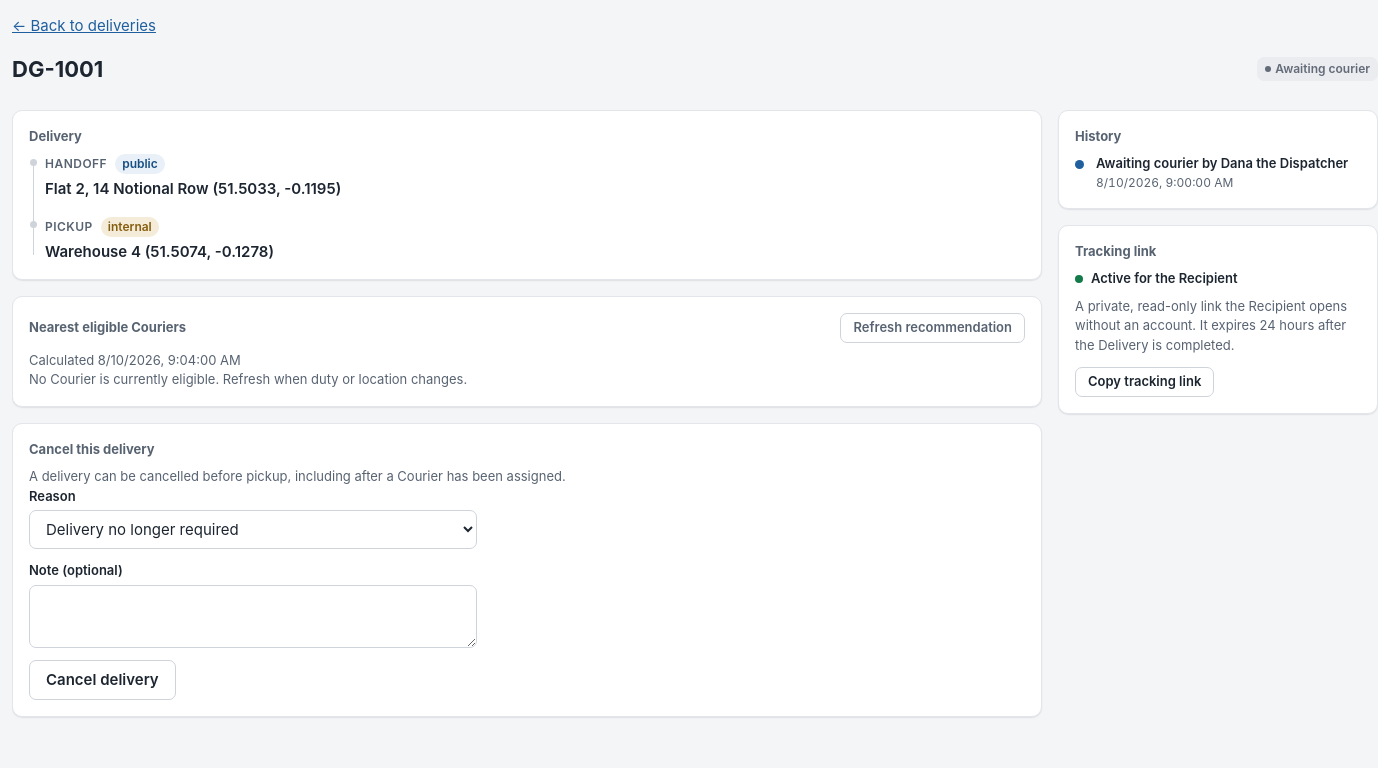
DeliveryDetailPage › cancels with the loaded version and a reason
Expected: the button "Cancel delivery" is shown, [29, 660, 176, 700]
Select "Item unavailable at pickup" in the dropdown labelled "Reason" at (253, 530), box [29, 510, 477, 549]
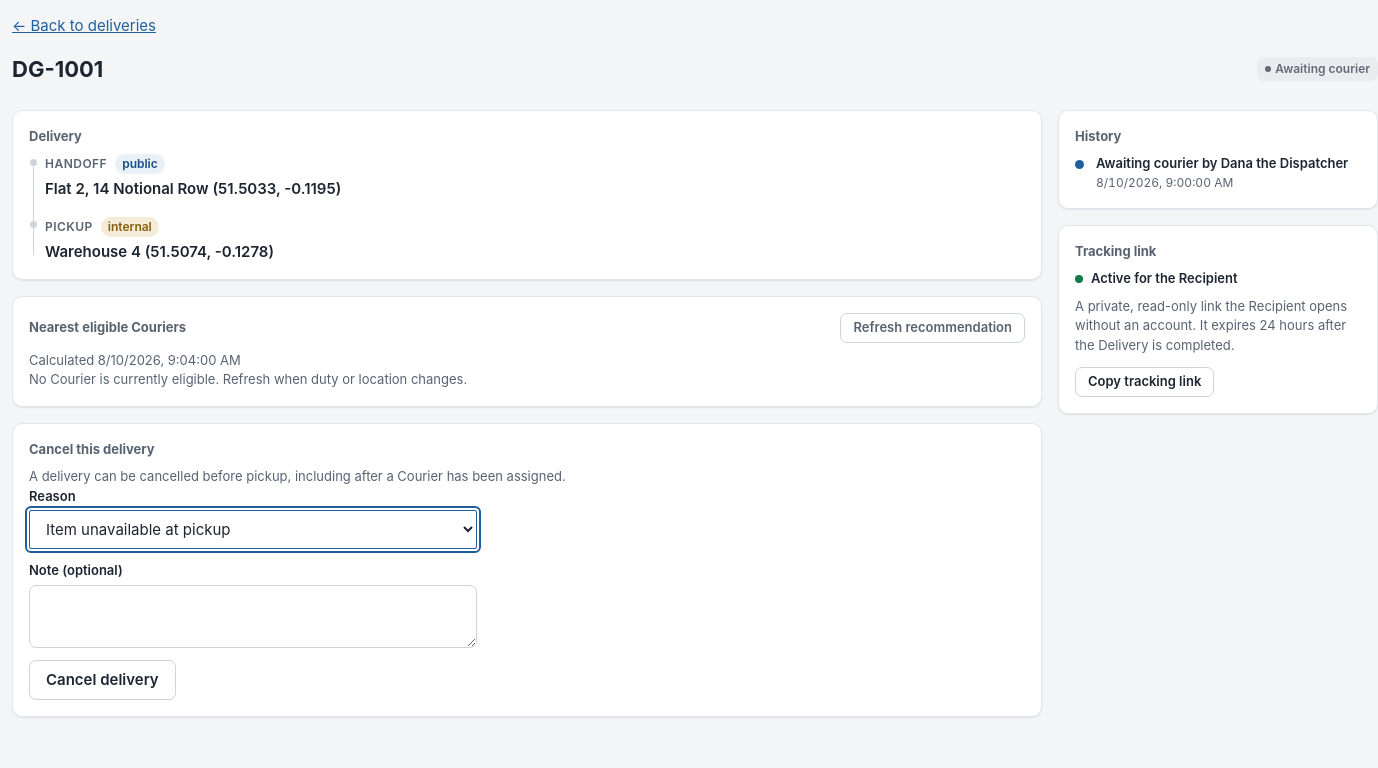
Click the button "Cancel delivery" at (102, 680), box [29, 660, 176, 700]
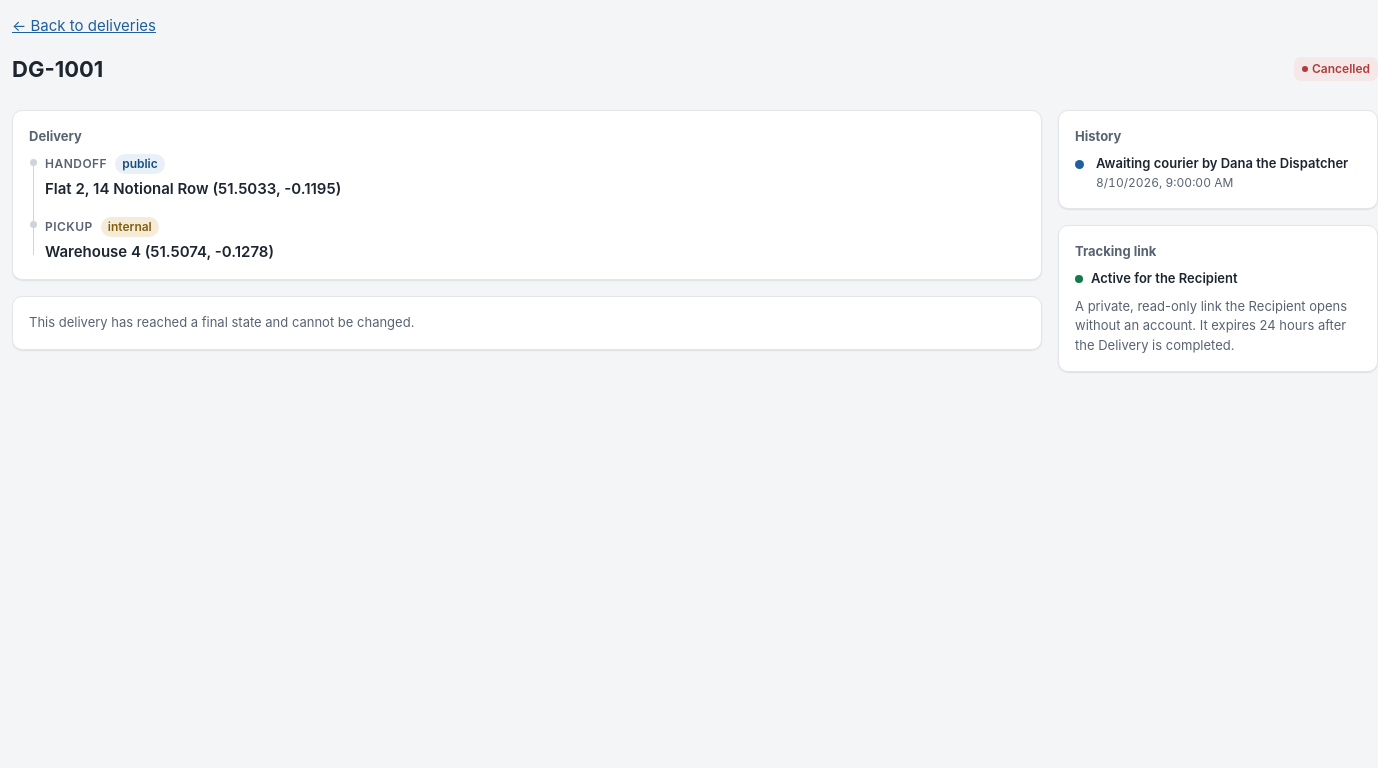
Now the text "This delivery has reached a final state and cannot be changed." is shown, box [12, 296, 1042, 350]
